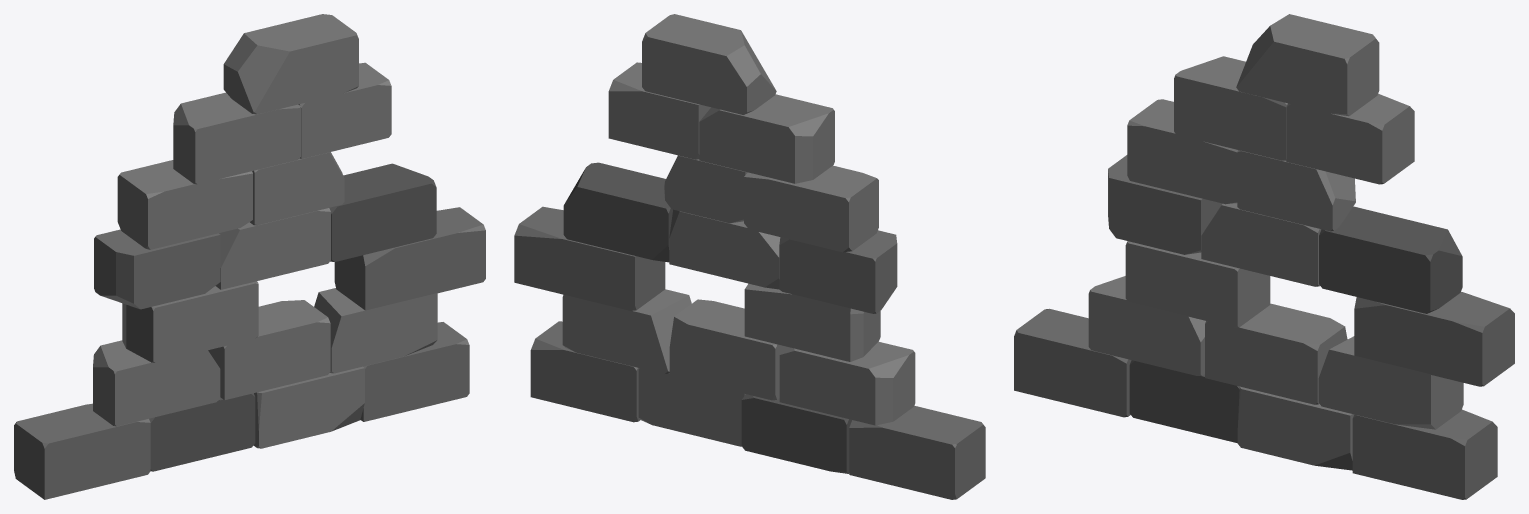
The model's file is Ruins_08.fbx.
3 renders of one model, left to right at view 1: azimuth 30°, elevation 25°; view 2: azimuth 150°, elevation 25°; view 3: azimuth 330°, elevation 25°, orthographic. The views are drawn at different scales.
Visible parts, largest first — view 1: Ruins_08_LOD0; view 2: Ruins_08_LOD0; view 3: Ruins_08_LOD0.
Boxes of the visible parts, bbox=[...] form: Ruins_08_LOD0: bbox=[14, 14, 485, 499]; Ruins_08_LOD0: bbox=[514, 14, 985, 499]; Ruins_08_LOD0: bbox=[1014, 14, 1514, 499].
Size of what is drawn, in the model's own units: 308 by 259 by 40.68.
